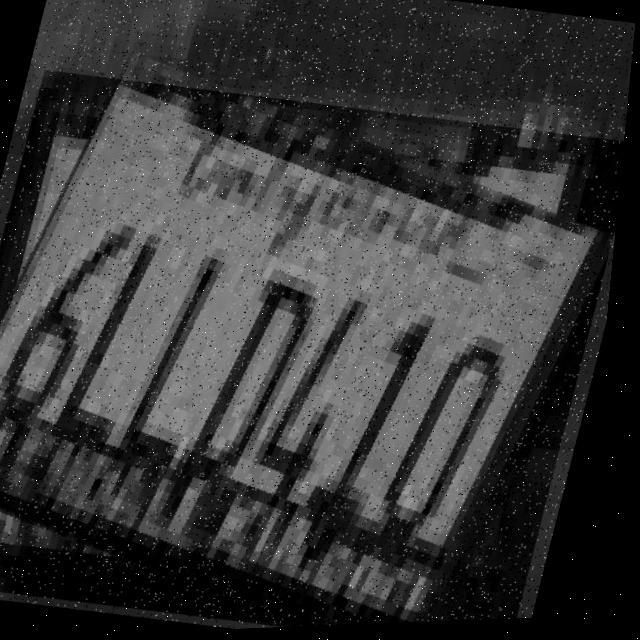LicensePlate: (0, 53, 635, 640)
